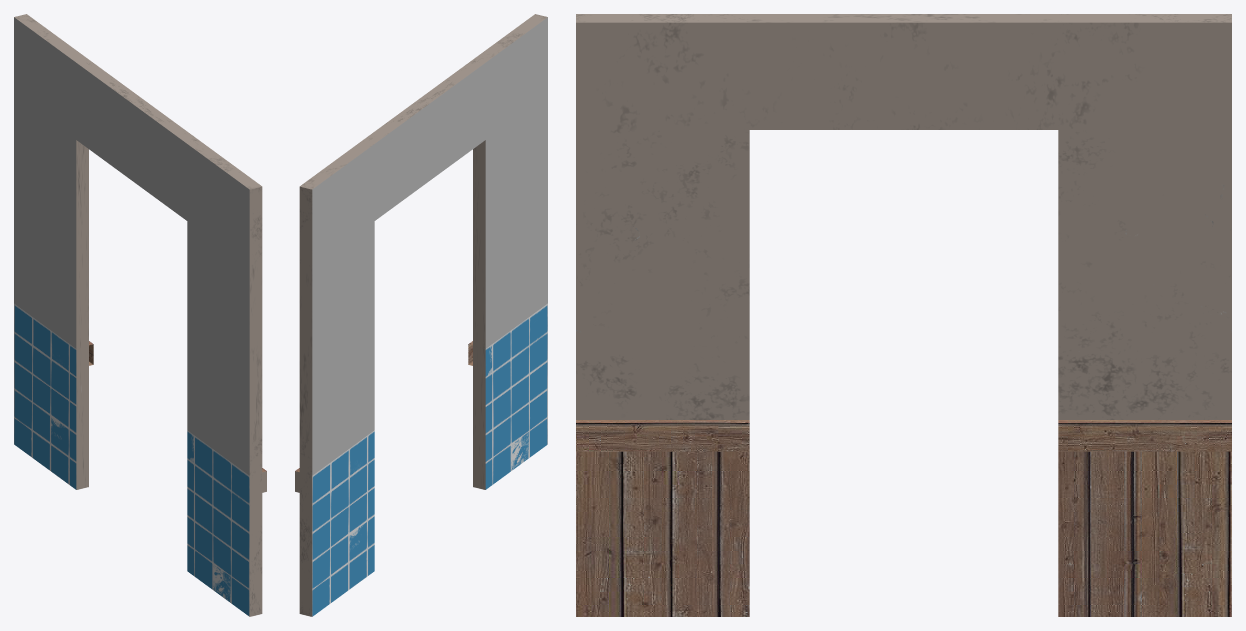
Rendered from WallHalfWoodDoor.fbx.
3 views of the same model, side by side, from view 1: azimuth 30°, elevation 25°; view 2: azimuth 150°, elevation 25°; view 3: azimuth 270°, elevation 25° (orthographic). The views are drawn at different scales.
Parts seen in each view (by area): view 1: Cube; view 2: Cube; view 3: Cube.
Part boxes in pixels (bbox=[...]): Cube: bbox=[14, 14, 266, 616]; Cube: bbox=[295, 14, 547, 616]; Cube: bbox=[576, 14, 1231, 616].
Bounding box in the file's own units: 16.85 × 400 × 400.
